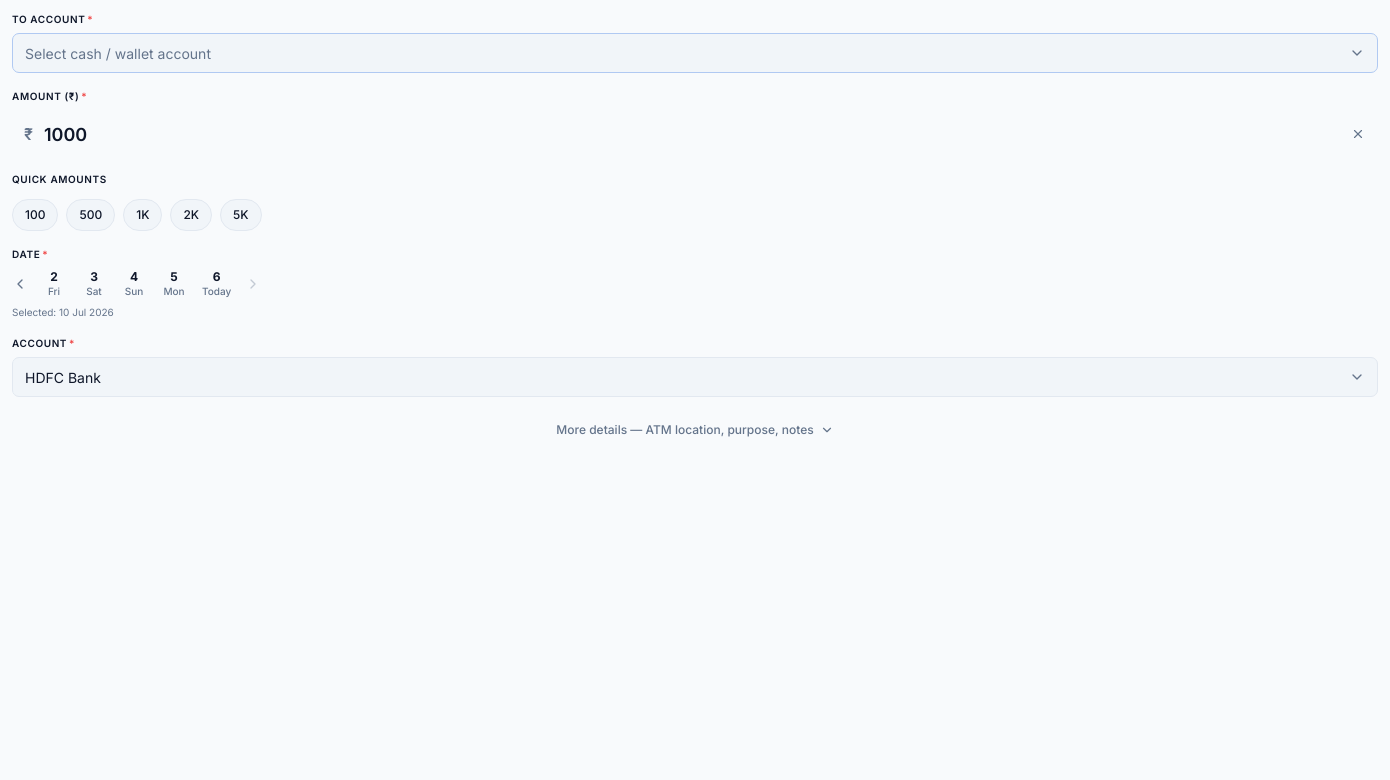
ATMWithdrawalForm › still renders ATM Location and Purpose fields once expanded
This screenshot has width=1390, height=780.
Click the button "More details — ATM location, purpose, notes": (695, 430) [12,413,1378,447]
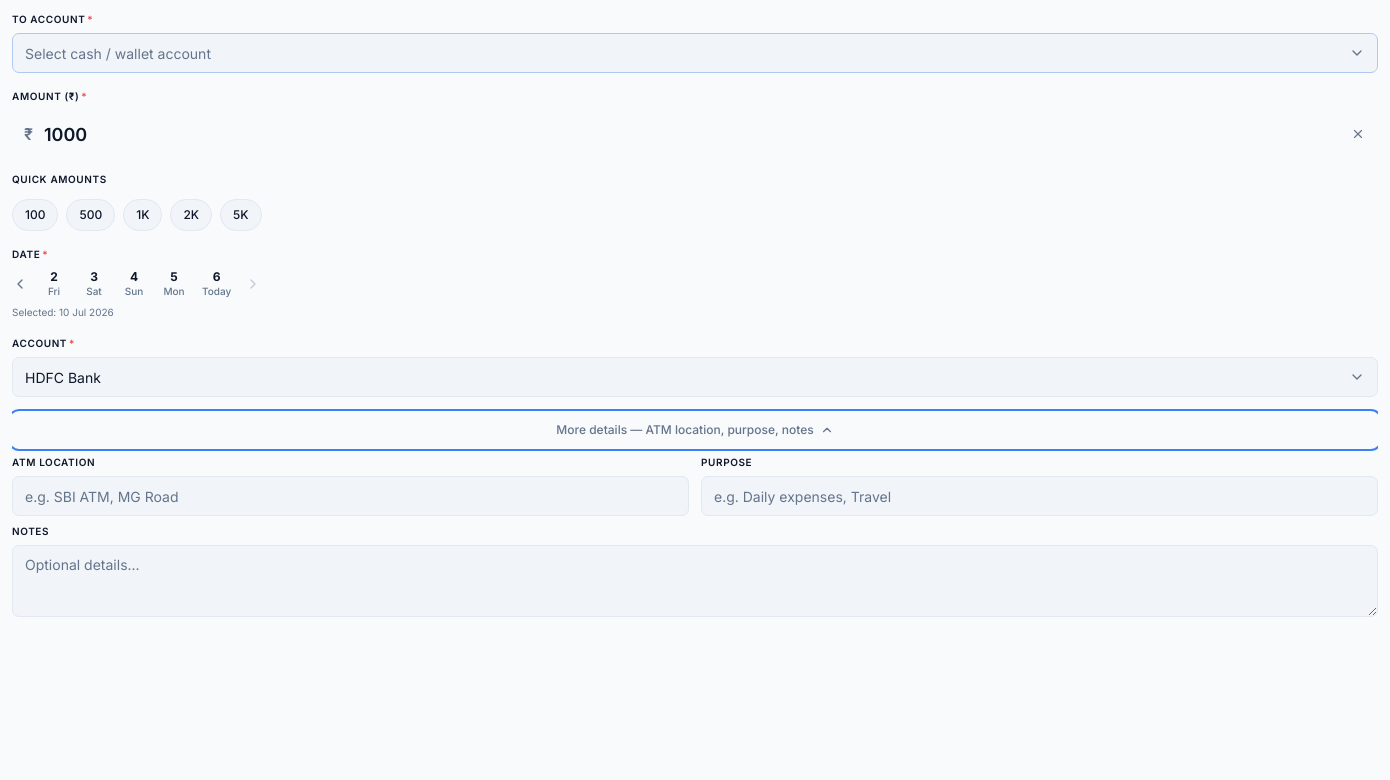
Check: the field labelled "ATM Location" is shown, box [12,476,689,516]
Check: the field labelled "Purpose" is shown, box [701,476,1378,516]
